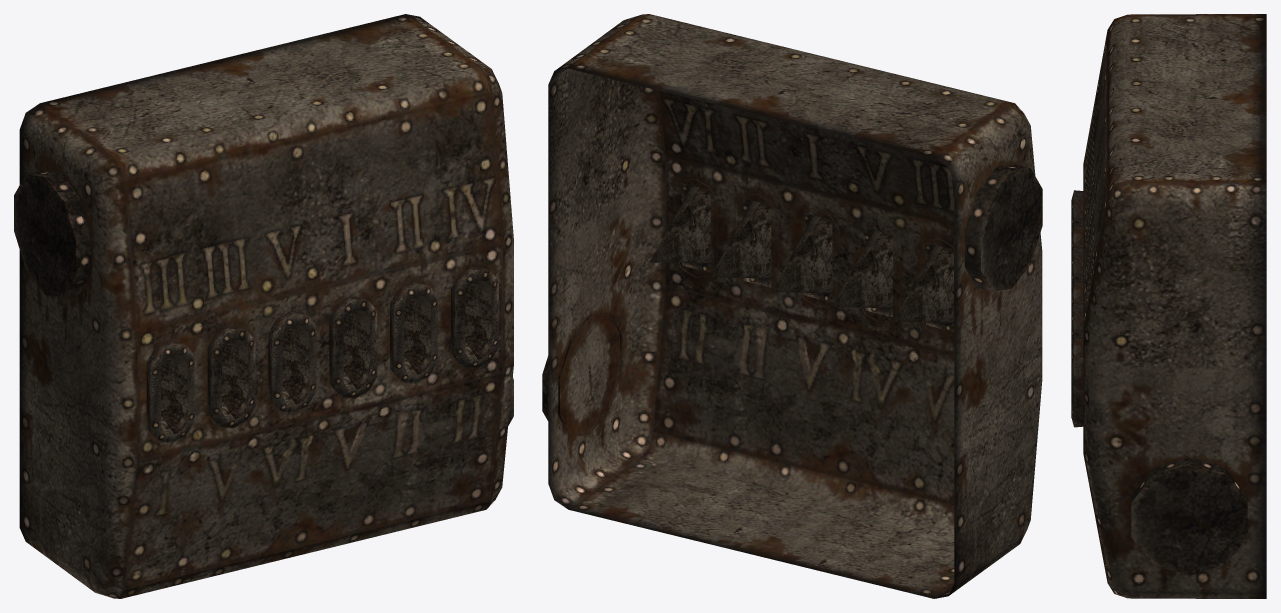
The model's file is lever_machine.dae.
The picture shows the model from 3 angles, left to right: view 1: azimuth 30°, elevation 25°; view 2: azimuth 150°, elevation 25°; view 3: azimuth 270°, elevation 25°; orthographic projection. The views are drawn at different scales.
Visible parts, largest first — view 1: lever_machine; view 2: lever_machine; view 3: lever_machine.
Part boxes in pixels (box(x1,y1,x2,y2)): lever_machine: box(14, 14, 513, 598); lever_machine: box(542, 14, 1042, 598); lever_machine: box(1071, 14, 1266, 598).
Bounding box in the file's own units: 1.42 × 1.36 × 0.5805.
